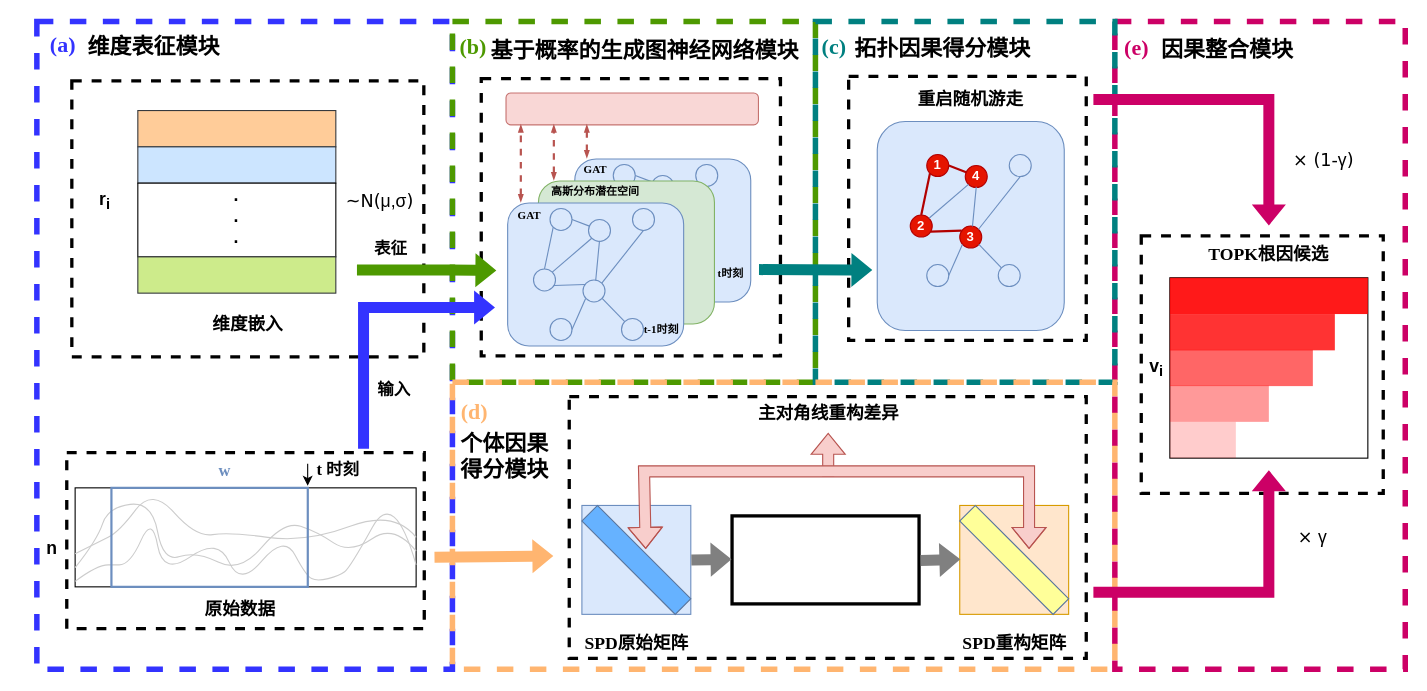
Image size: 1427x691. Some labels were removed from this diagram. The box of each missing label's shape, as (x1, y1, x2, y2) in pixels:
LSTM: (505, 92, 758, 125)
SPDAE: (730, 514, 920, 605)
